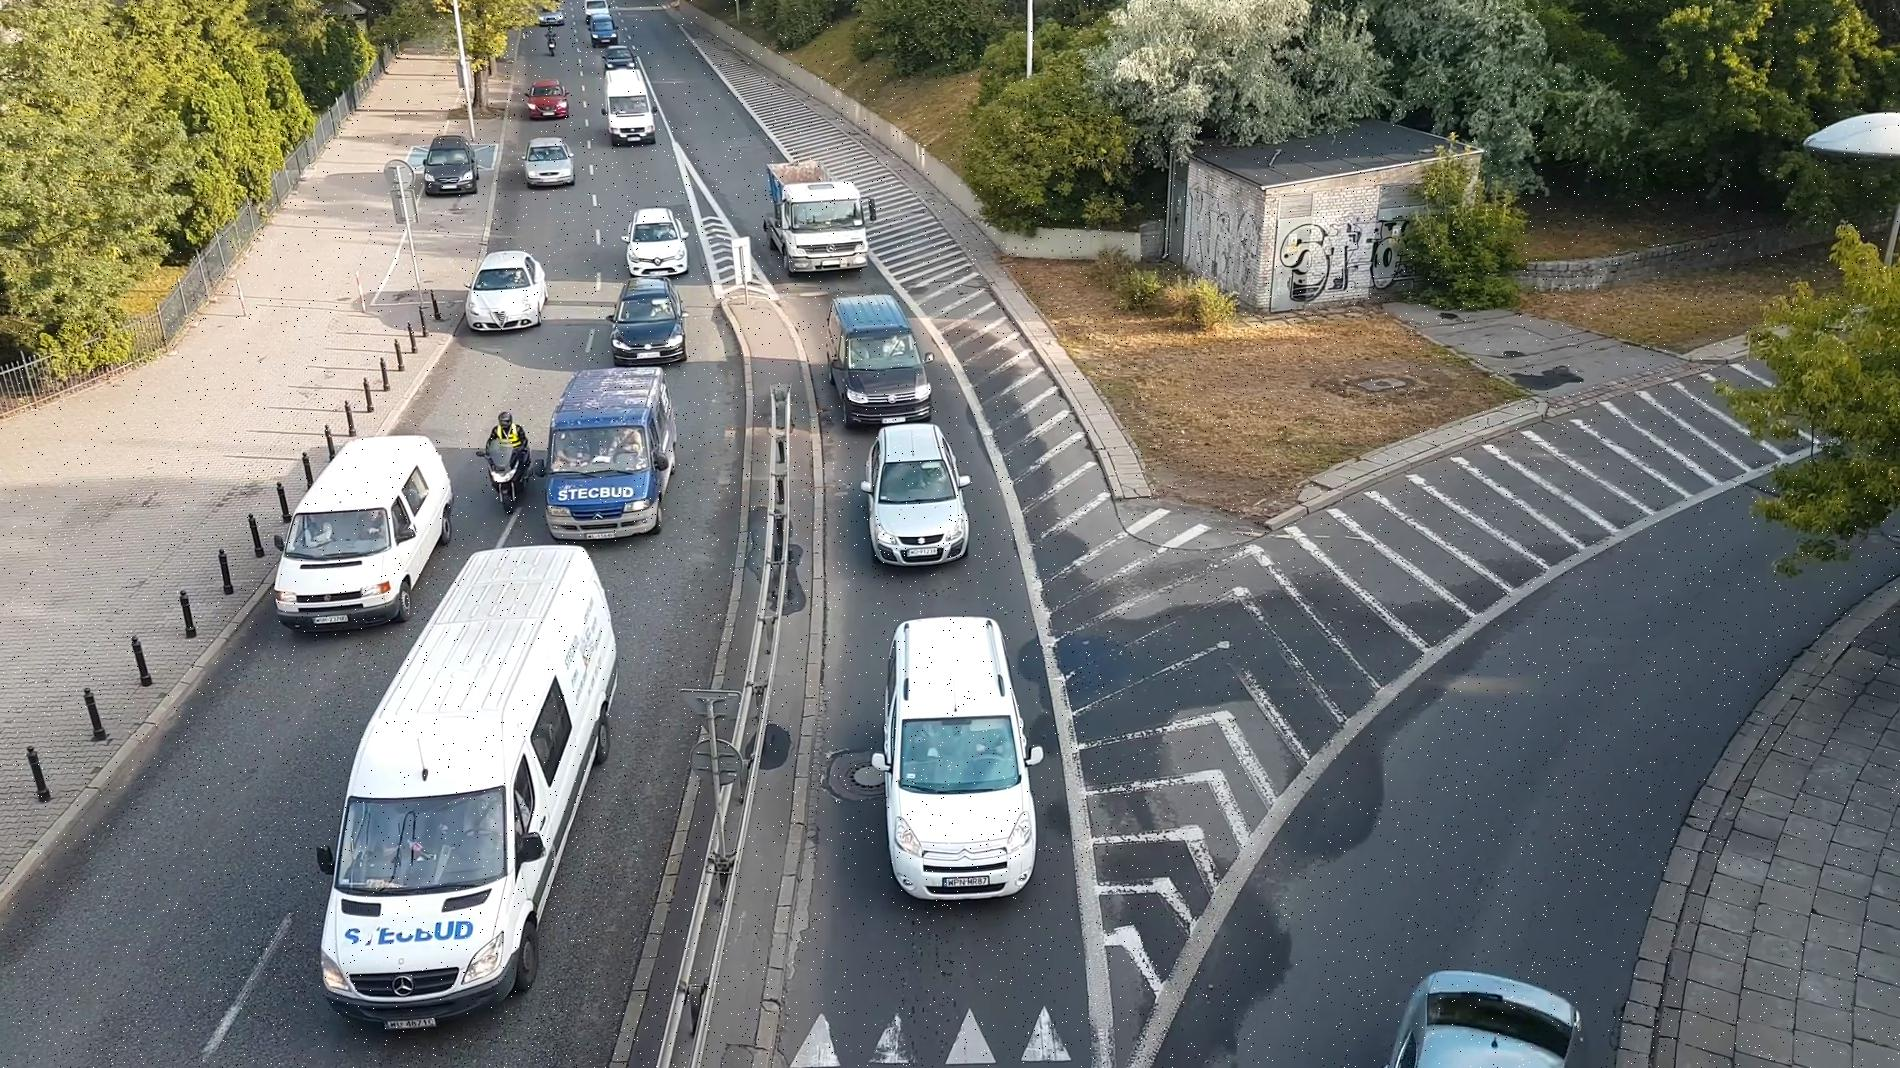bike: (479, 409, 539, 517)
car: (313, 539, 636, 1013), (885, 606, 1043, 898), (269, 430, 457, 633), (1377, 947, 1602, 1068), (535, 363, 689, 537), (857, 422, 973, 572), (817, 291, 937, 424), (454, 249, 552, 329), (611, 270, 685, 373), (620, 196, 697, 281), (596, 61, 662, 146), (416, 132, 489, 201), (517, 137, 578, 185), (526, 77, 569, 119)
truck: (750, 155, 885, 274)
